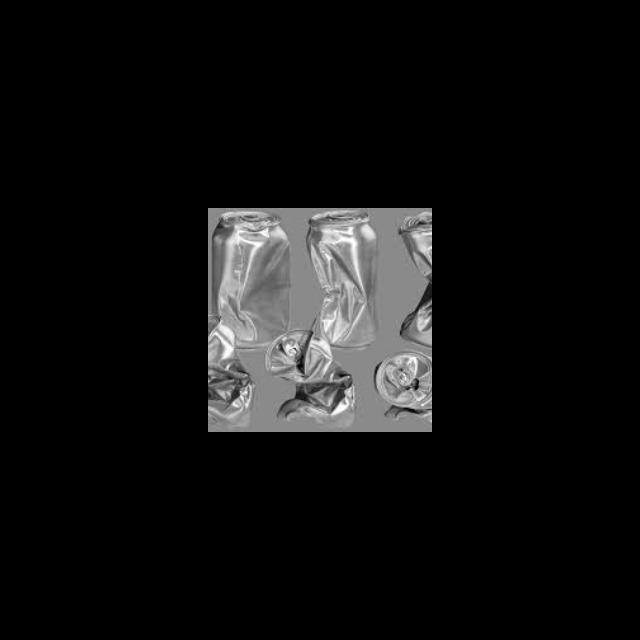metal: (208, 208, 296, 359), (297, 208, 385, 357), (262, 318, 364, 432), (389, 208, 431, 357), (208, 308, 258, 432), (369, 348, 432, 432)
